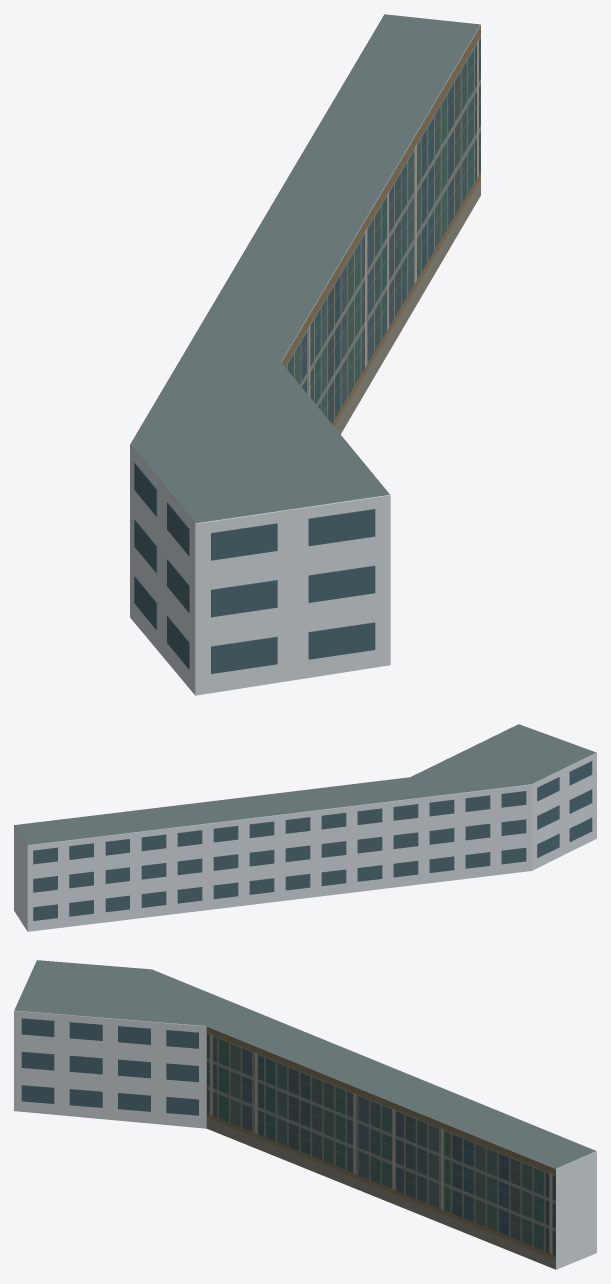
The model's file is intact.glb.
3 views of the same model, one above another, from view 1: azimuth 30°, elevation 25°; view 2: azimuth 150°, elevation 25°; view 3: azimuth 270°, elevation 25° (orthographic). The views are drawn at different scales.
Visible parts, largest first — view 1: SM_lifelong_Intact_00, SM_lifelong_Intact_01; view 2: SM_lifelong_Intact_00, SM_lifelong_Intact_01; view 3: SM_lifelong_Intact_00, SM_lifelong_Intact_01.
Boxes of the visible parts, <box> form: SM_lifelong_Intact_00: <box>130,14,480,695</box>; SM_lifelong_Intact_01: <box>134,462,375,673</box>; SM_lifelong_Intact_00: <box>14,724,596,931</box>; SM_lifelong_Intact_01: <box>33,761,592,920</box>; SM_lifelong_Intact_00: <box>14,960,596,1269</box>; SM_lifelong_Intact_01: <box>21,1018,198,1115</box>.
Bounding box in the file's own units: 1.87 × 0.4273 × 2.2.
4 materials, 1 textured.
